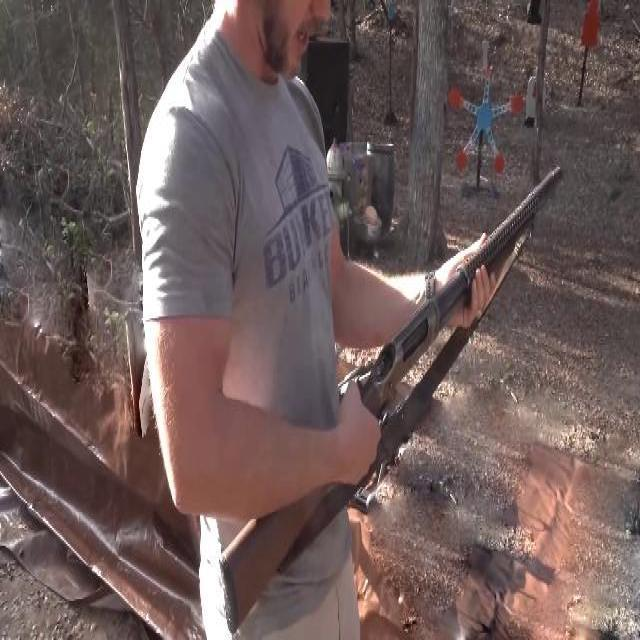pistol: (228, 168, 568, 632)
